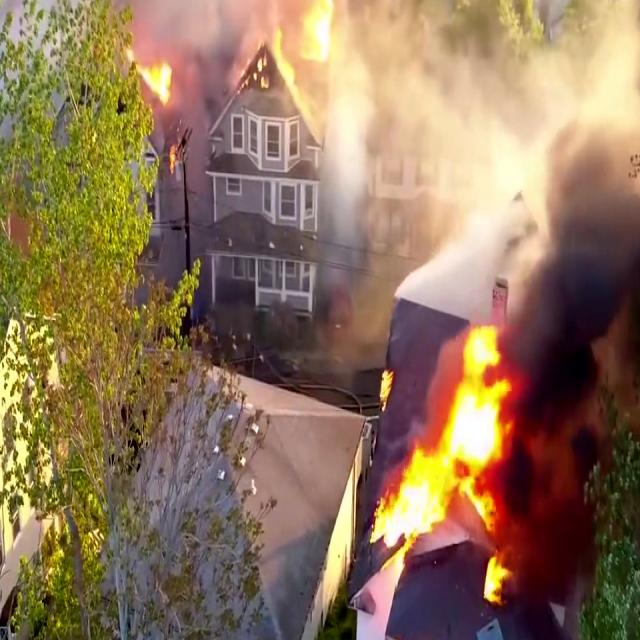fire: (360, 332, 520, 553)
